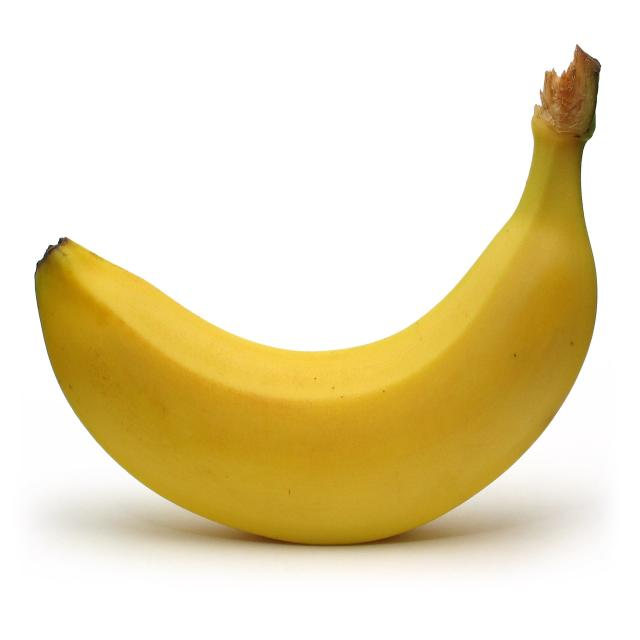Banana: (33, 58, 618, 548)
